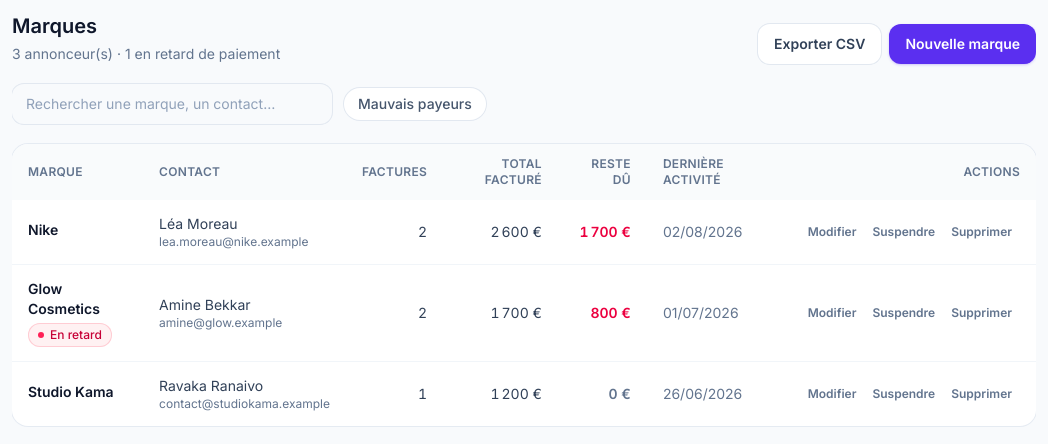
Test: MarquesComponent › filtre sur la recherche saisie
The width and height of the screenshot is (1048, 444).
Type "glow" into the search field with placeholder "Rechercher une marque, un contact…" at (172, 104), box top-left (12, 84), bottom-right (332, 124)
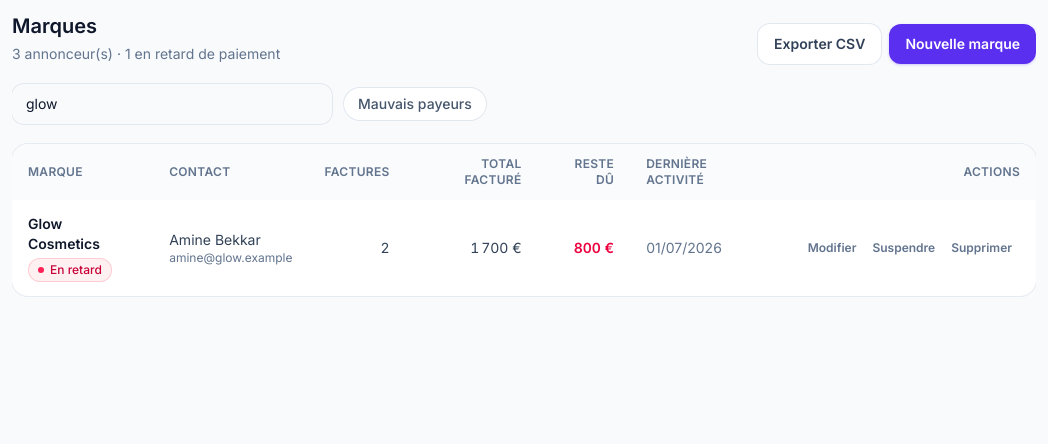
Expected: the text "Glow Cosmetics" is shown, top-left (28, 214), bottom-right (137, 254)
Now the text "Studio Kama" is gone
